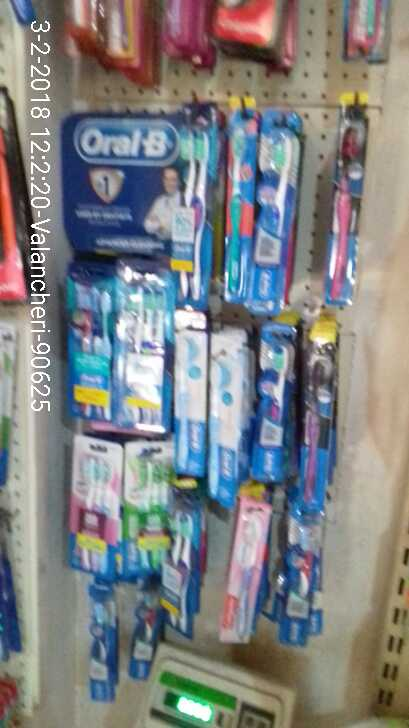oralb: (57, 267, 121, 419), (167, 107, 214, 312), (60, 429, 119, 578), (116, 262, 162, 435), (256, 105, 290, 311), (218, 107, 253, 300), (122, 443, 173, 575), (304, 315, 338, 501), (220, 103, 249, 293), (258, 319, 288, 480), (338, 115, 361, 312)
